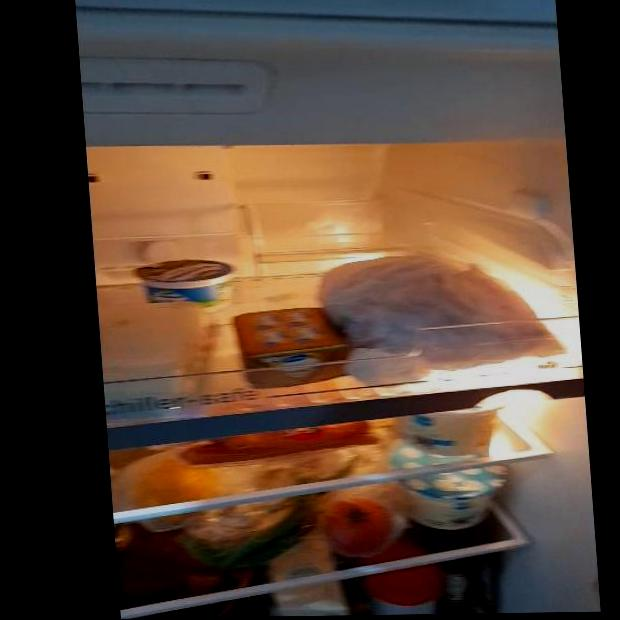butter: (233, 307, 350, 379)
carrot: (200, 425, 372, 467)
cheese: (102, 309, 213, 401)
green chilies: (188, 512, 320, 572)
lemon: (127, 463, 218, 525)
sauce: (440, 546, 476, 607)
tomato: (324, 500, 396, 550)
yoghurt: (394, 460, 505, 527), (399, 411, 501, 457), (137, 258, 238, 304)
